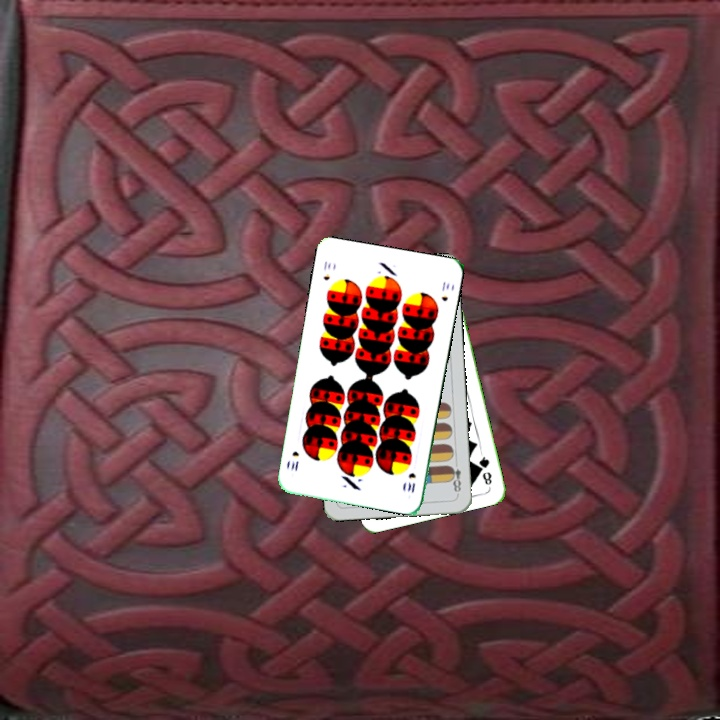E8: (446, 462, 463, 497)
G8: (475, 449, 494, 488)
S10: (403, 469, 418, 496), (319, 257, 334, 283)
